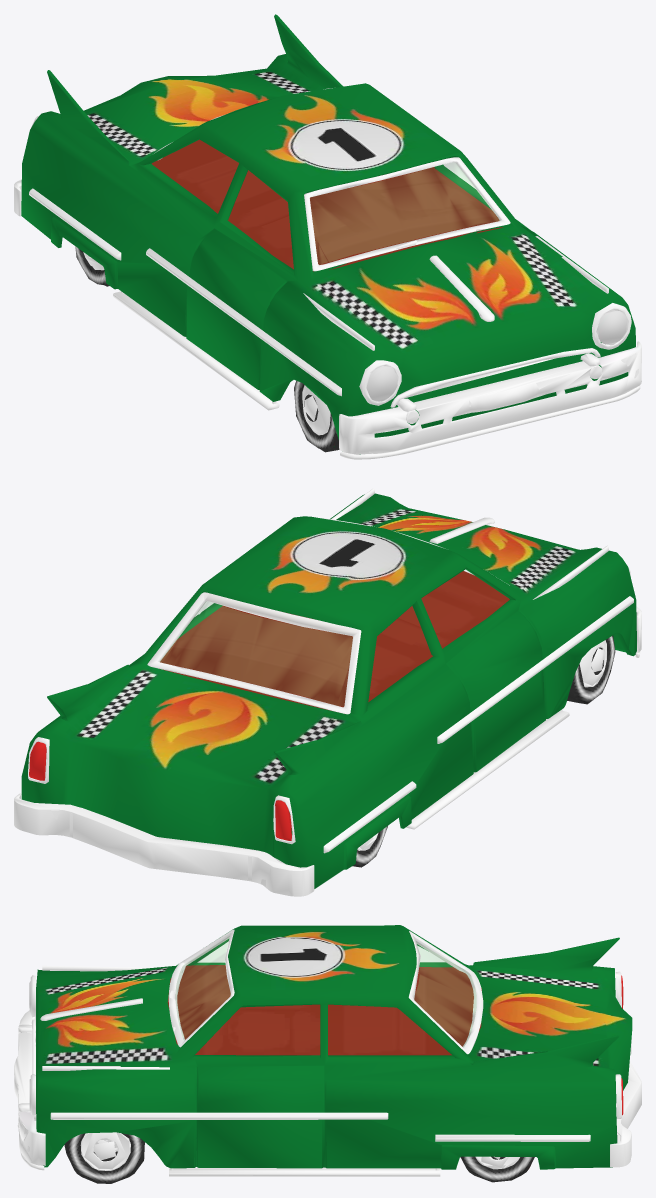
Rendered from toycar.glb.
3 views of the same model, one above another, from view 1: azimuth 30°, elevation 25°; view 2: azimuth 150°, elevation 25°; view 3: azimuth 270°, elevation 25° (orthographic). The views are drawn at different scales.
Parts seen in each view (by area): view 1: ToyCar, Glass; view 2: ToyCar, Glass; view 3: ToyCar, Glass.
Boxes of the visible parts, bbox=[...] form: ToyCar: bbox=[14, 14, 641, 459]; Glass: bbox=[310, 162, 499, 264]; ToyCar: bbox=[14, 488, 641, 896]; Glass: bbox=[160, 601, 352, 706]; ToyCar: bbox=[14, 925, 641, 1183]; Glass: bbox=[175, 936, 476, 1046].
Bounding box in the file's own units: 0.039 × 0.0241 × 0.08.
Materials: 2 (1 with a texture image).
